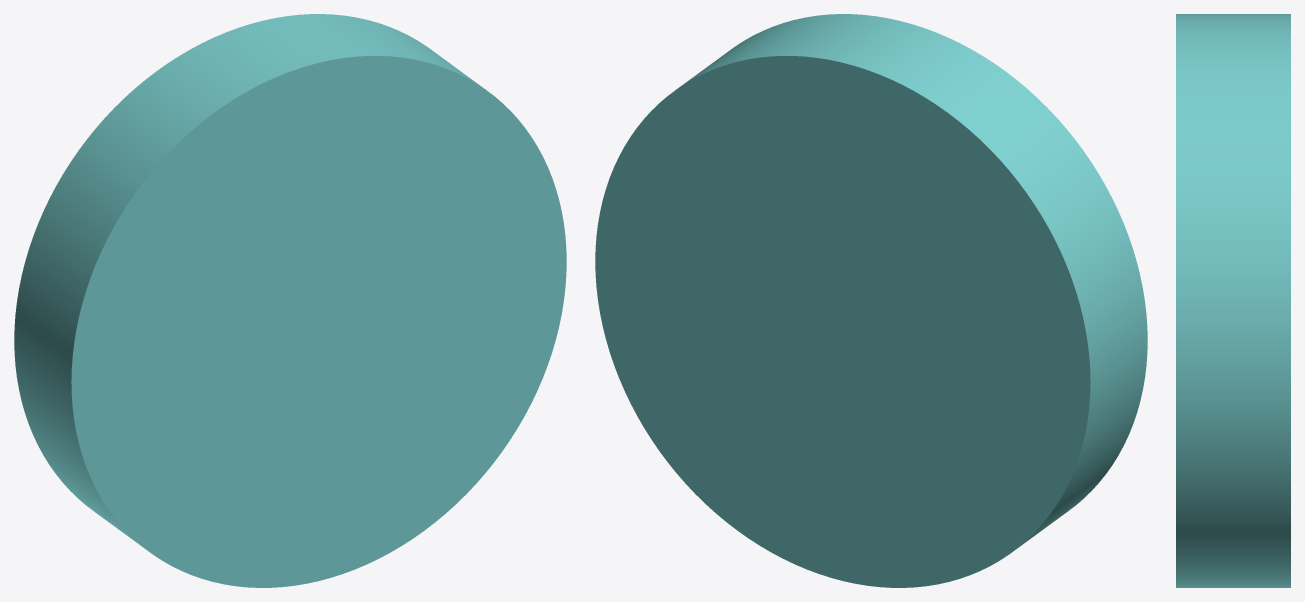
The model's file is serial_test_example_fn_std-appearance-hexString0_output.glb.
3 views of the same model, side by side, from view 1: azimuth 30°, elevation 25°; view 2: azimuth 150°, elevation 25°; view 3: azimuth 270°, elevation 25° (orthographic).
Bounding box in the file's own units: 0.02 × 0.02 × 0.004.
